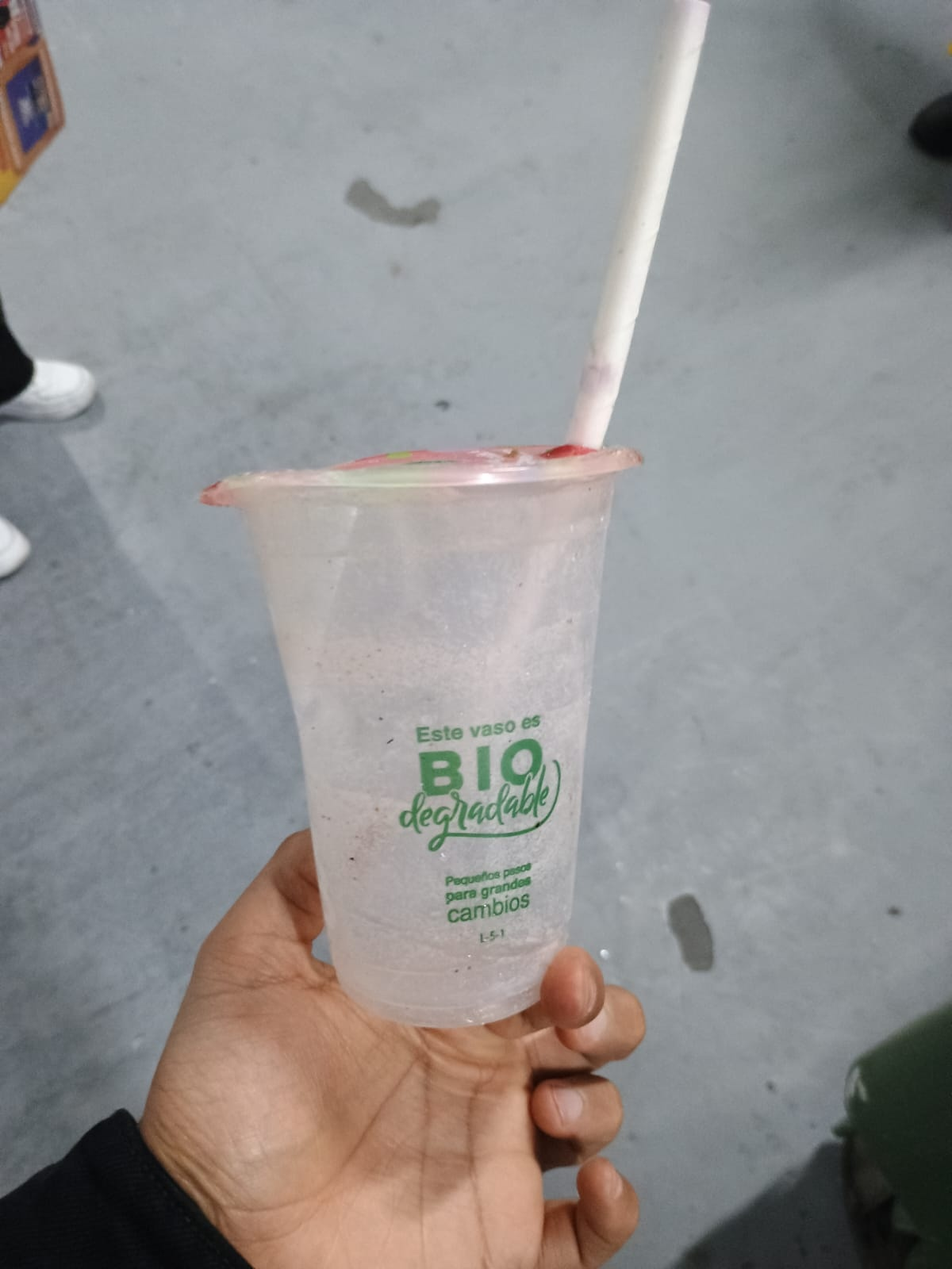Plastico: (195, 446, 644, 1025)
